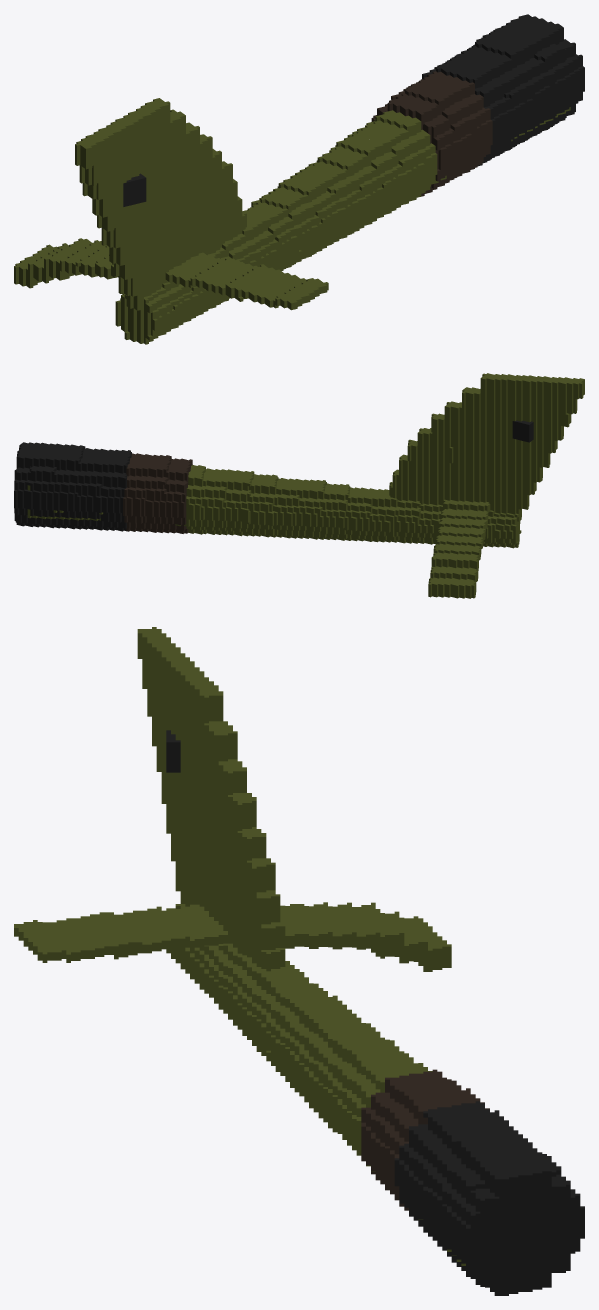
Rendered from crashed_military_helicopter_tail_boom.glb.
The picture shows the model from 3 angles, top to bottom: view 1: azimuth 30°, elevation 25°; view 2: azimuth 150°, elevation 25°; view 3: azimuth 270°, elevation 25°; orthographic projection. The views are drawn at different scales.
Visible parts, largest first — view 1: body:compound; view 2: body:compound; view 3: body:compound.
Part boxes in pixels (x1,y1,x2,y2): body:compound: (14, 14, 584, 344); body:compound: (14, 373, 584, 598); body:compound: (14, 627, 584, 1295).
Size of the model in its own units: 6.06 by 2.06 by 3.75.
